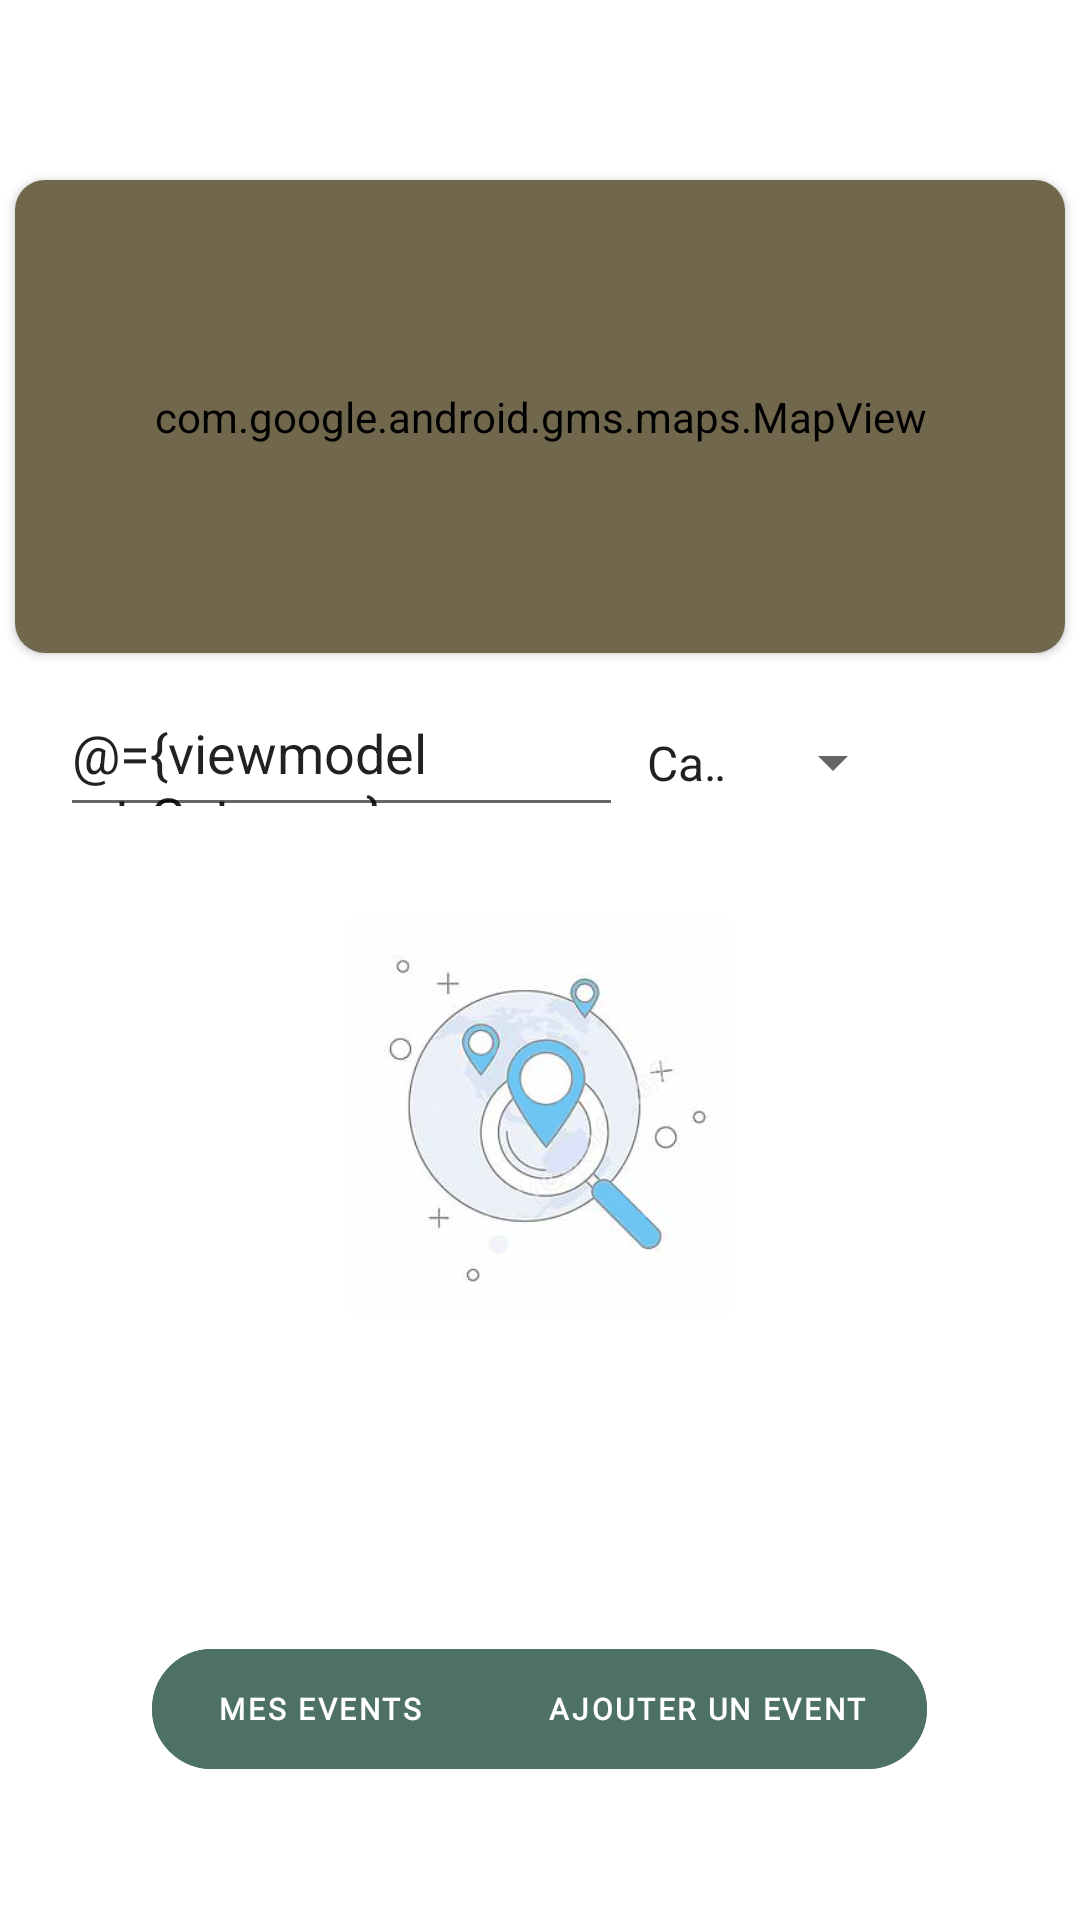

Icon bounding boxes for this 1080 x 1920 phone screenshot, format [left=x1, top=y1, right=x2, bottom=y2]:
no found event: [left=389, top=960, right=706, bottom=1282]
